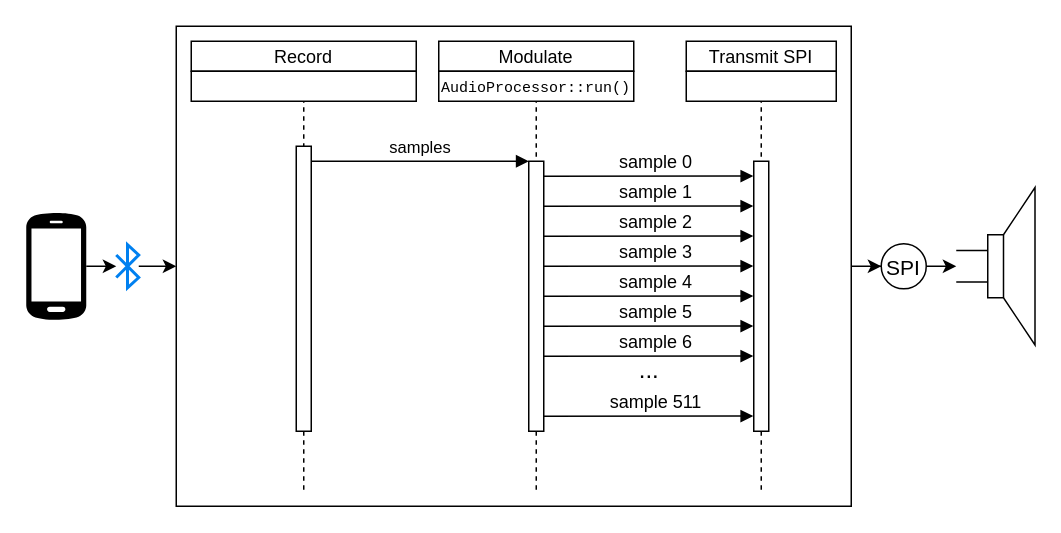
Image size: 1061x533. Some labels were removed from this diagram. The shapes that lost their labels are listed below. From the top down, each one's centre as x and y in pixels, then its label:
the point at 303,85: AudioProcessor::record()
the point at 760,85: Speaker::run()
